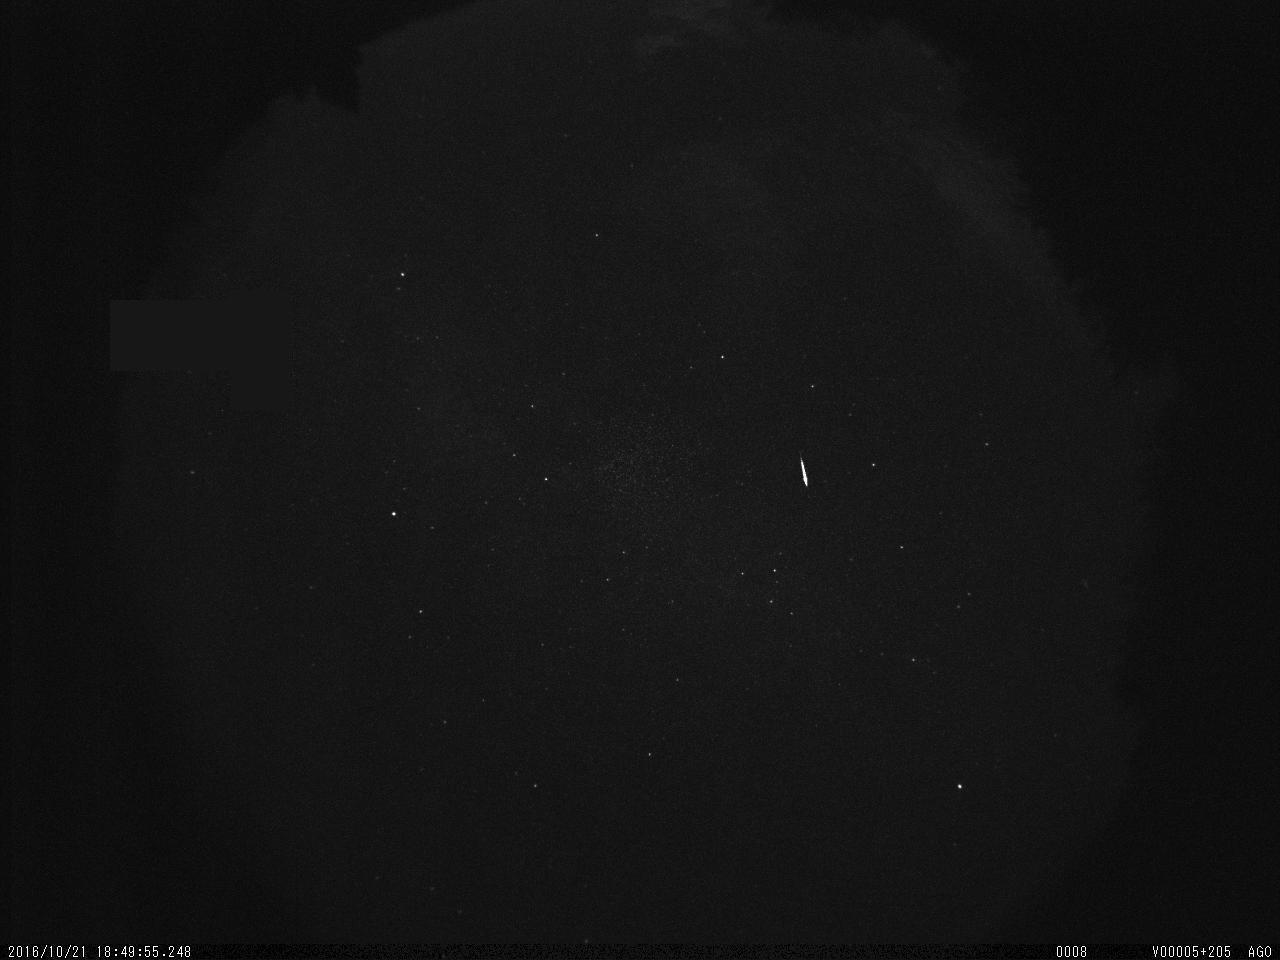Meteor: (797, 452, 810, 488)
